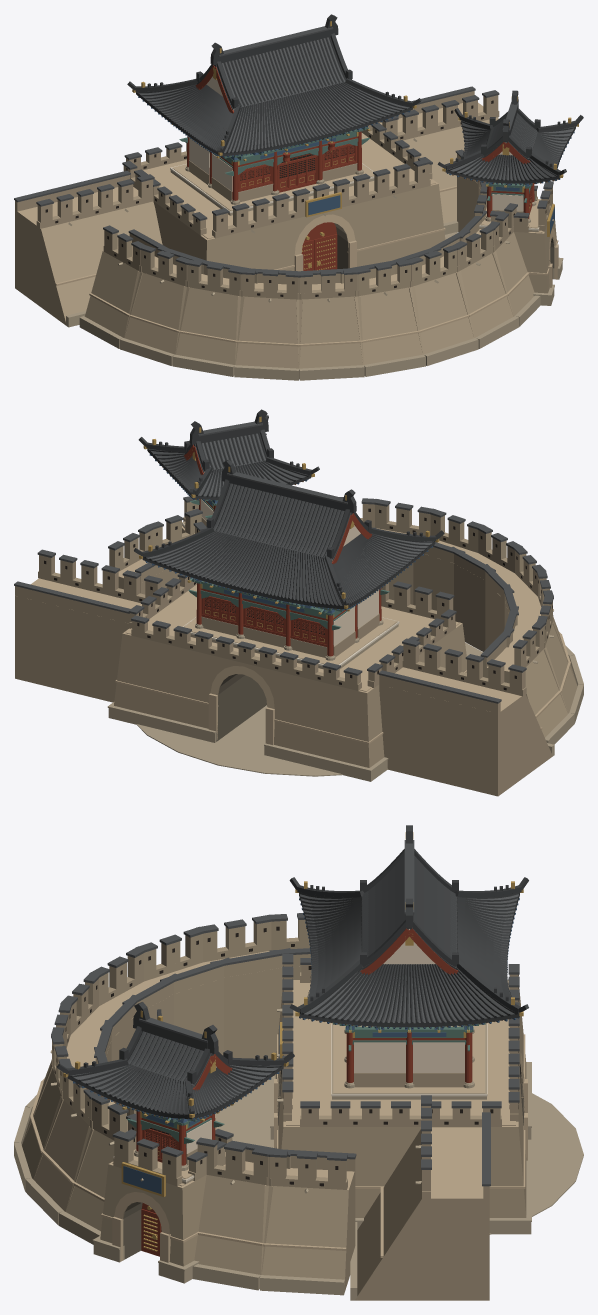
3 renders of one model, top to bottom at view 1: azimuth 30°, elevation 25°; view 2: azimuth 150°, elevation 25°; view 3: azimuth 270°, elevation 25°, orthographic. The views are drawn at different scales.
Visible parts, largest first — view 1: K05b; view 2: K05b; view 3: K05b.
Boxes of the visible parts, bbox=[...] form: K05b: bbox=[14, 14, 583, 380]; K05b: bbox=[14, 409, 583, 796]; K05b: bbox=[14, 825, 583, 1300].
Size of the model in its own units: 49 by 23.01 by 40.49.
